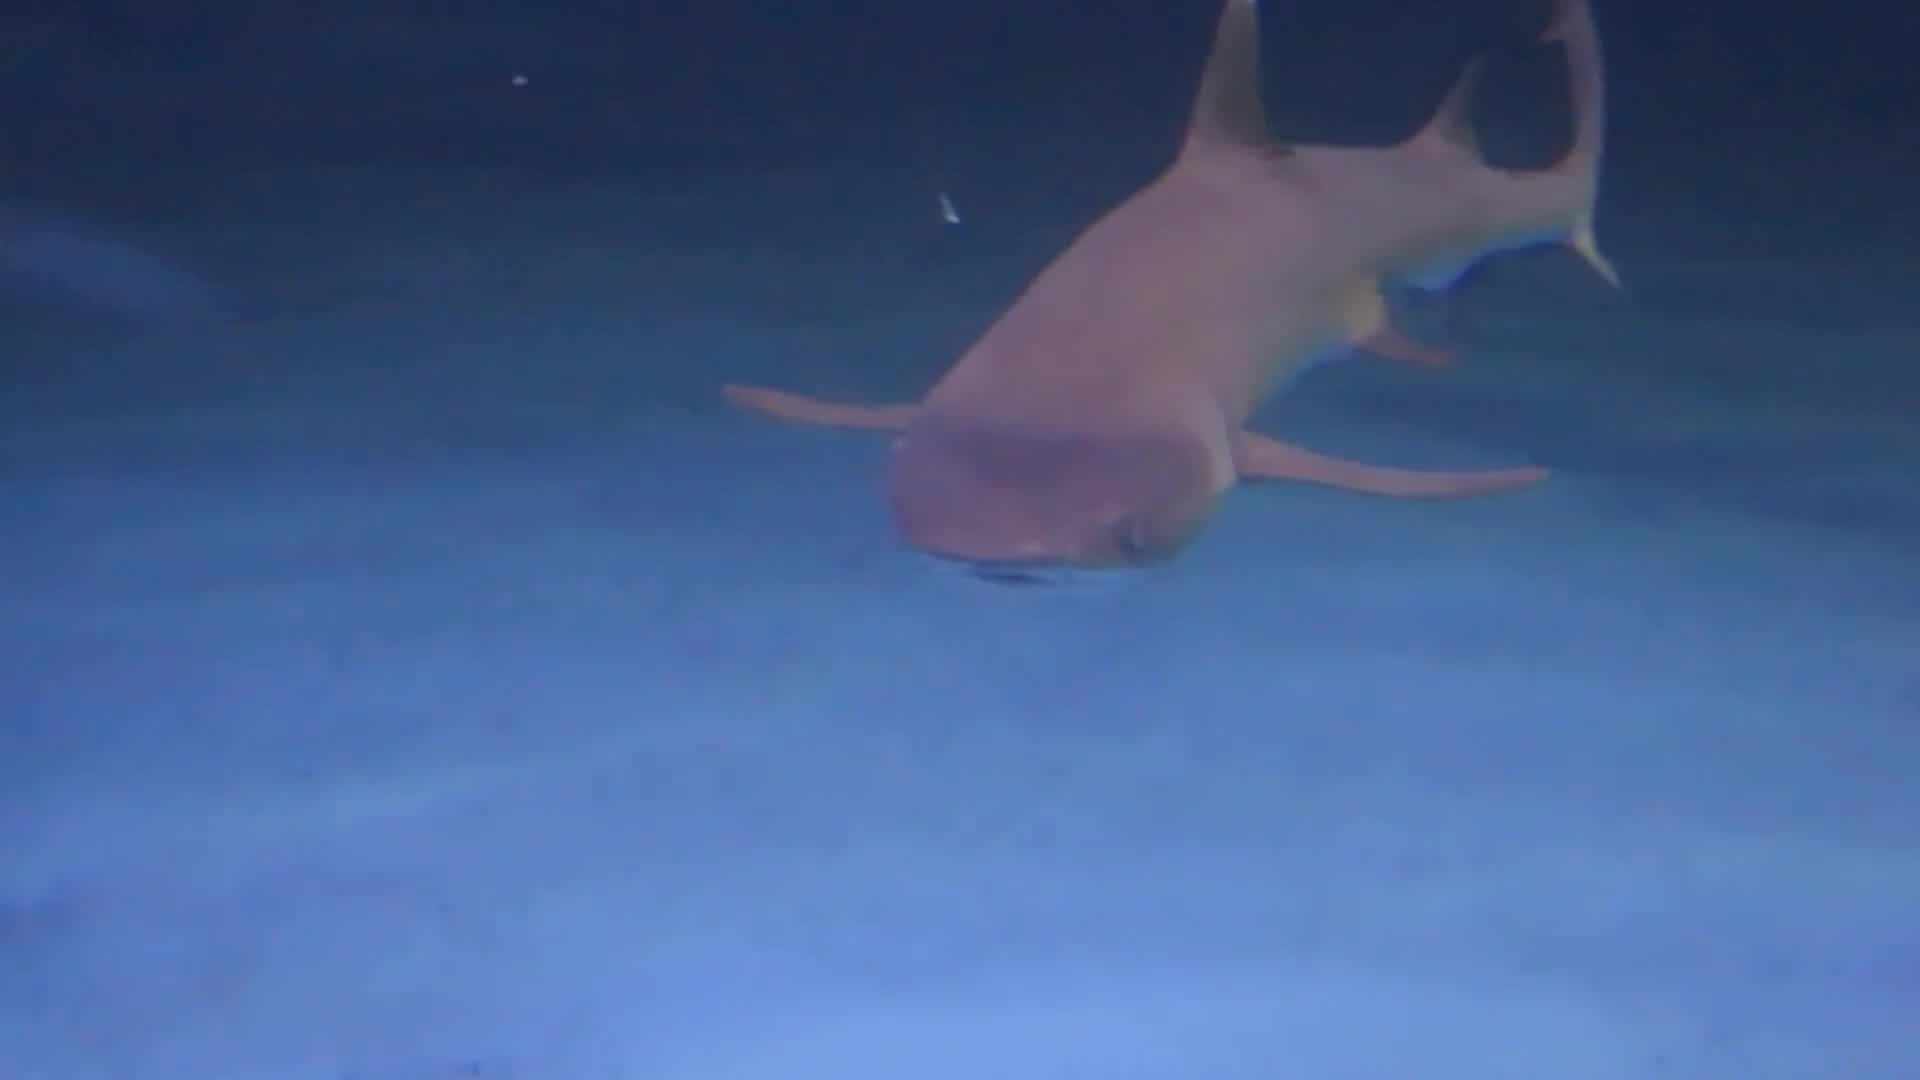Triaenodon obesus: (651, 1, 1664, 659)
